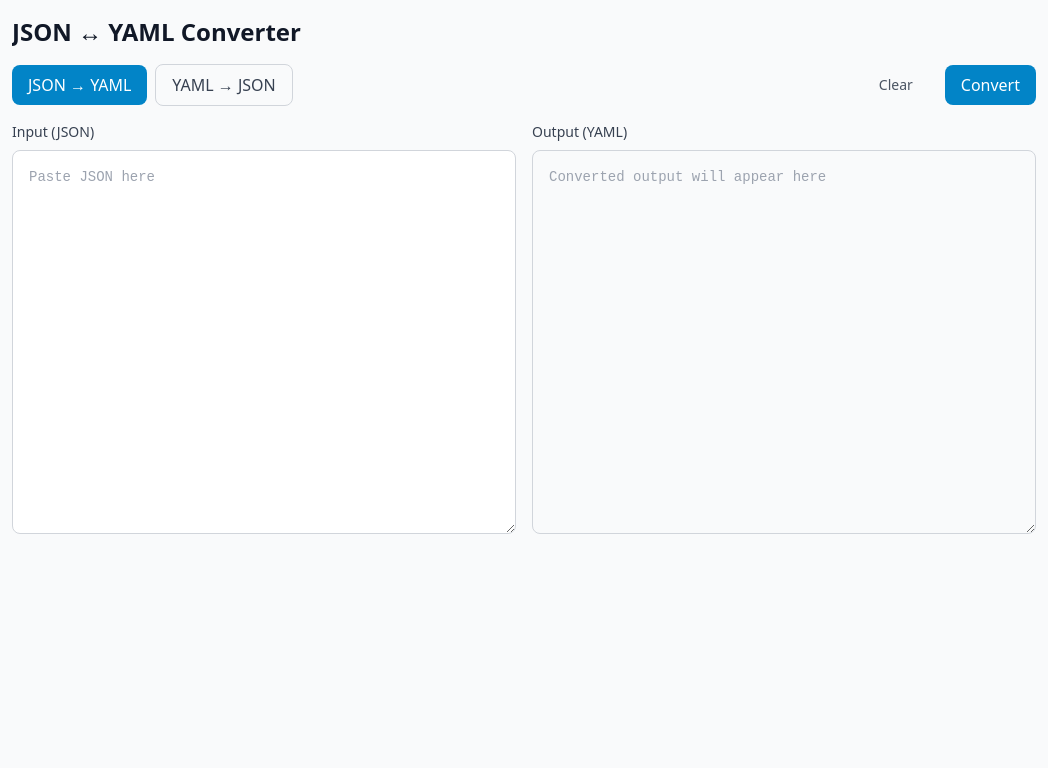
Test case: JsonYamlConverter › shows error for invalid YAML
This screenshot has width=1048, height=768.
Click the button "YAML → JSON": (224, 85) [155,64,293,106]
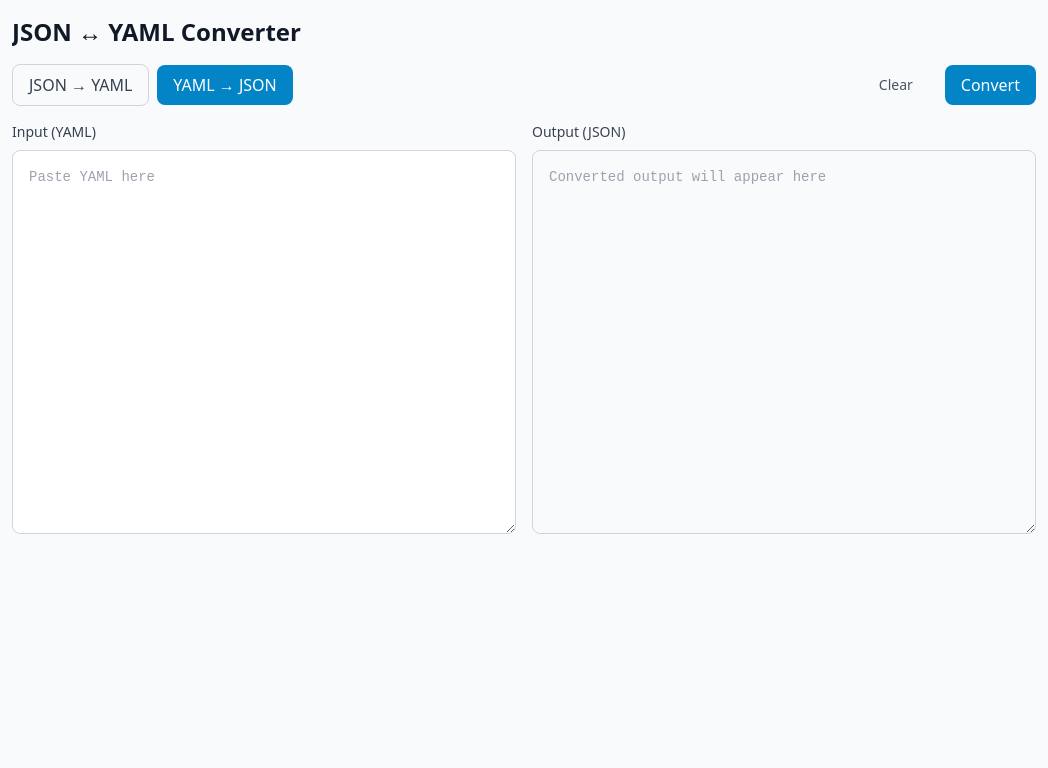
expect the text box with placeholder "Paste YAML here" is shown: met
In the text box with placeholder "Paste YAML here": (264, 342) [12,150,516,534], type "invalid: yaml: : :"
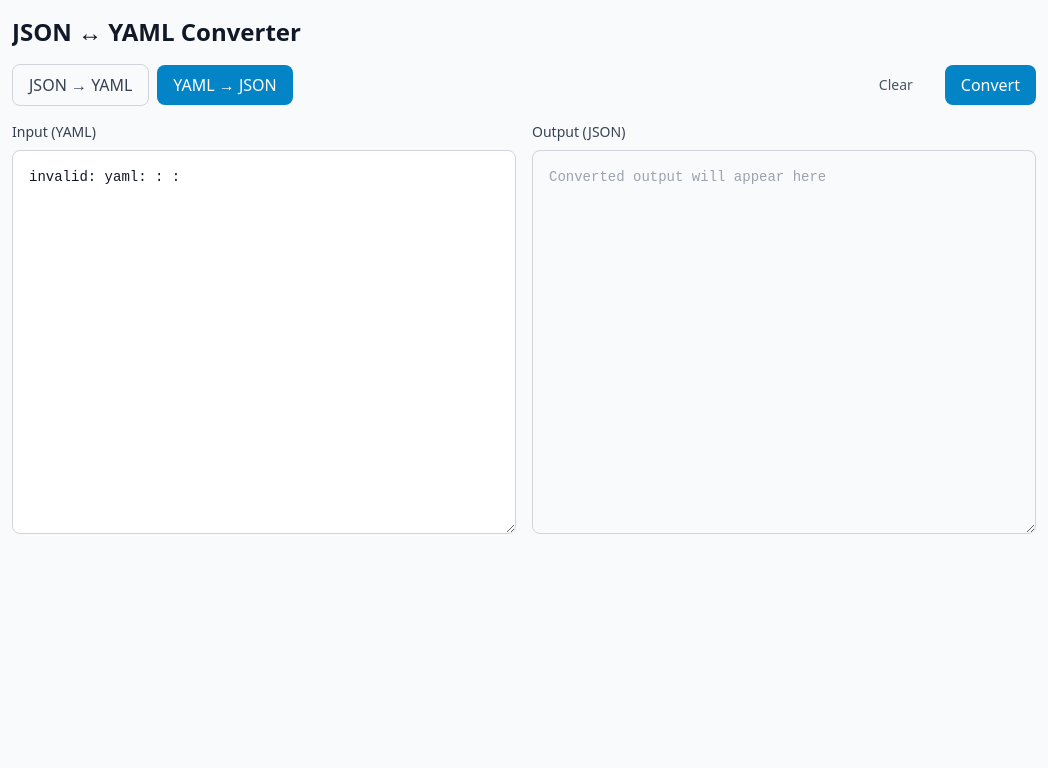
Click the button "Convert": (990, 85) [945,65,1036,105]
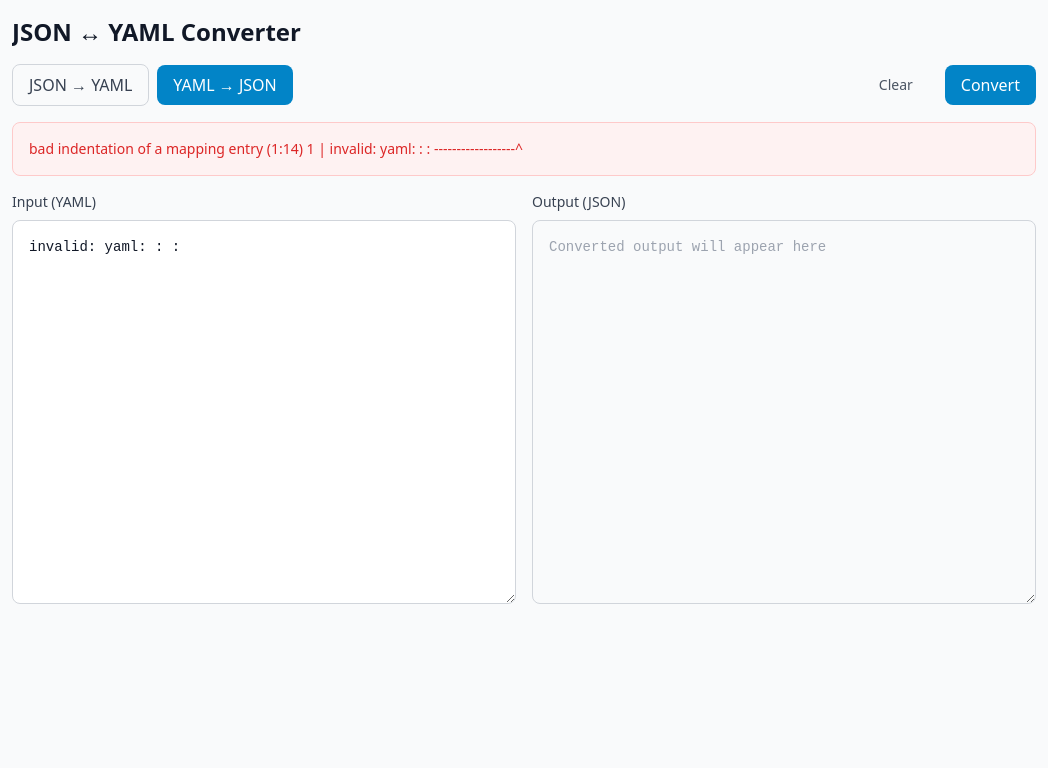
expect the text "bad indentation" is shown: met, box [29,139,523,158]
